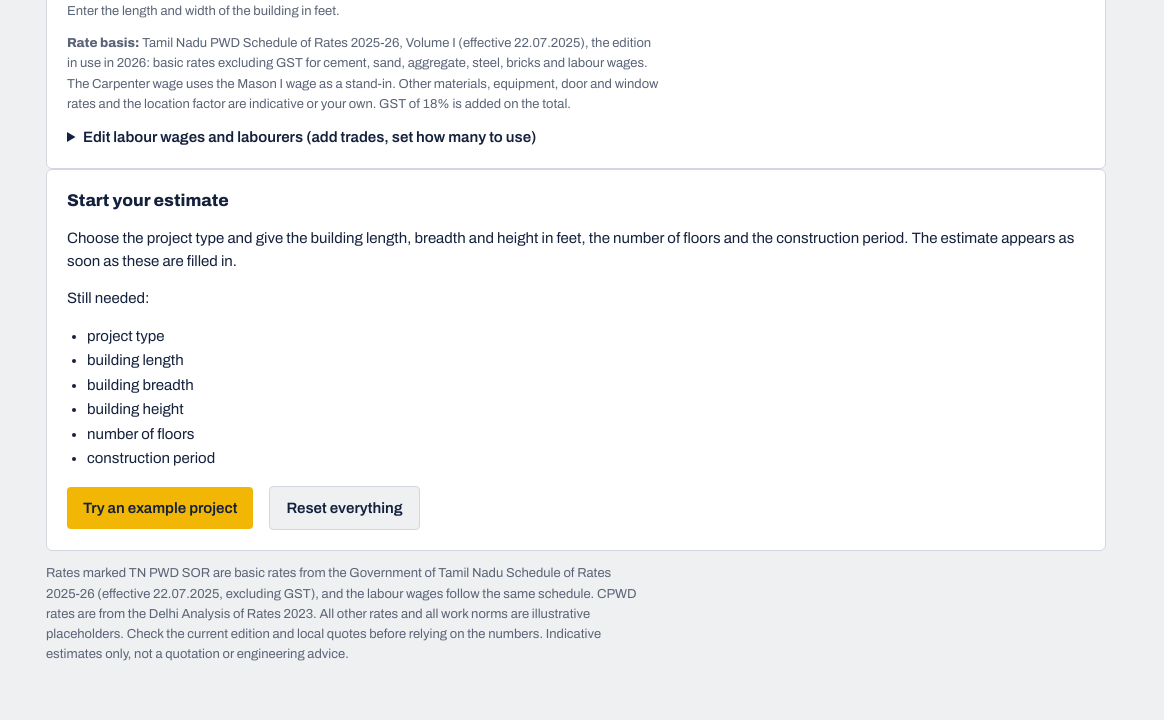
App › typing a length changes the estimate and the geometry line
(page scrolled)
Step 1. Click the button "Try an example project" → [160, 508], box x1=67 y1=487 x2=253 y2=529
(page scrolled)
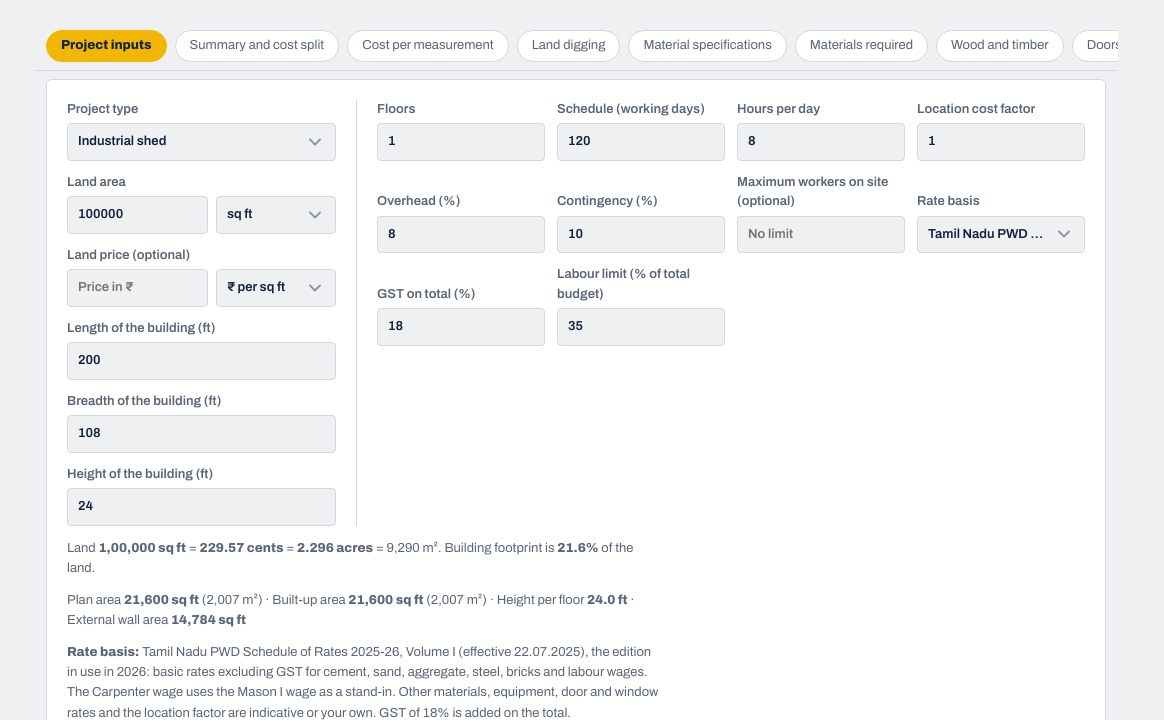
Step 2. Clear the number field labelled "Length of the building" → [202, 361], box x1=67 y1=342 x2=336 y2=380
(page scrolled)
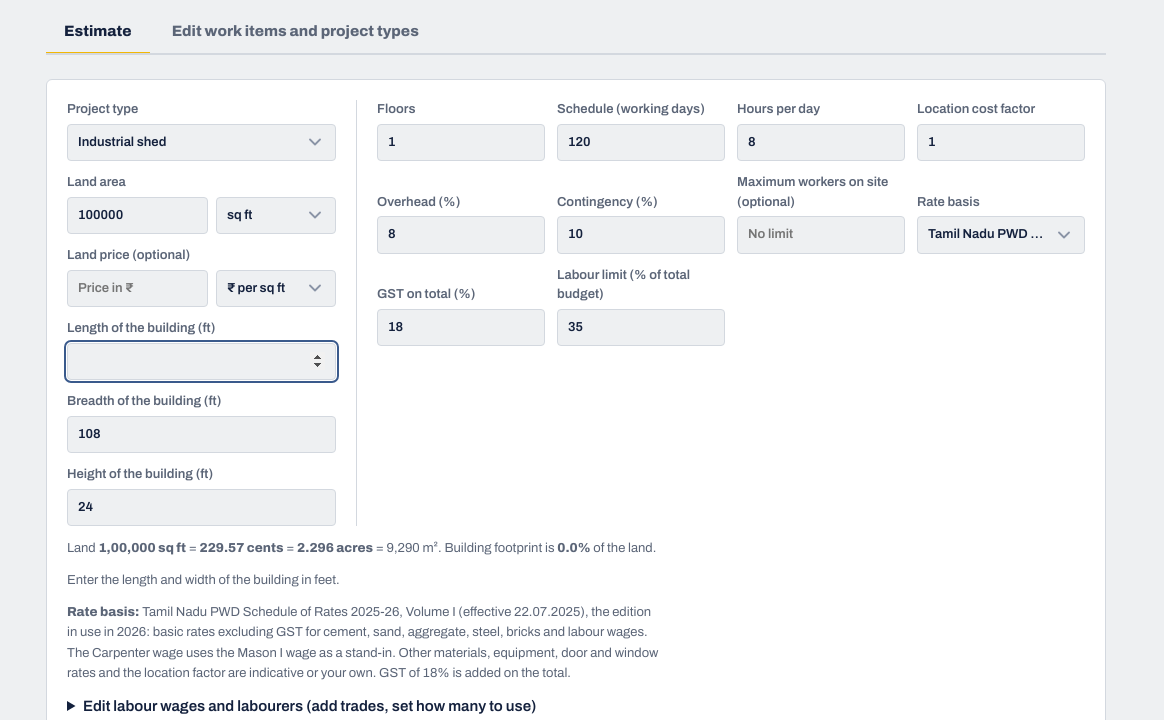
Step 3. Type "400" into the number field labelled "Length of the building" → [202, 361], box x1=67 y1=342 x2=336 y2=380
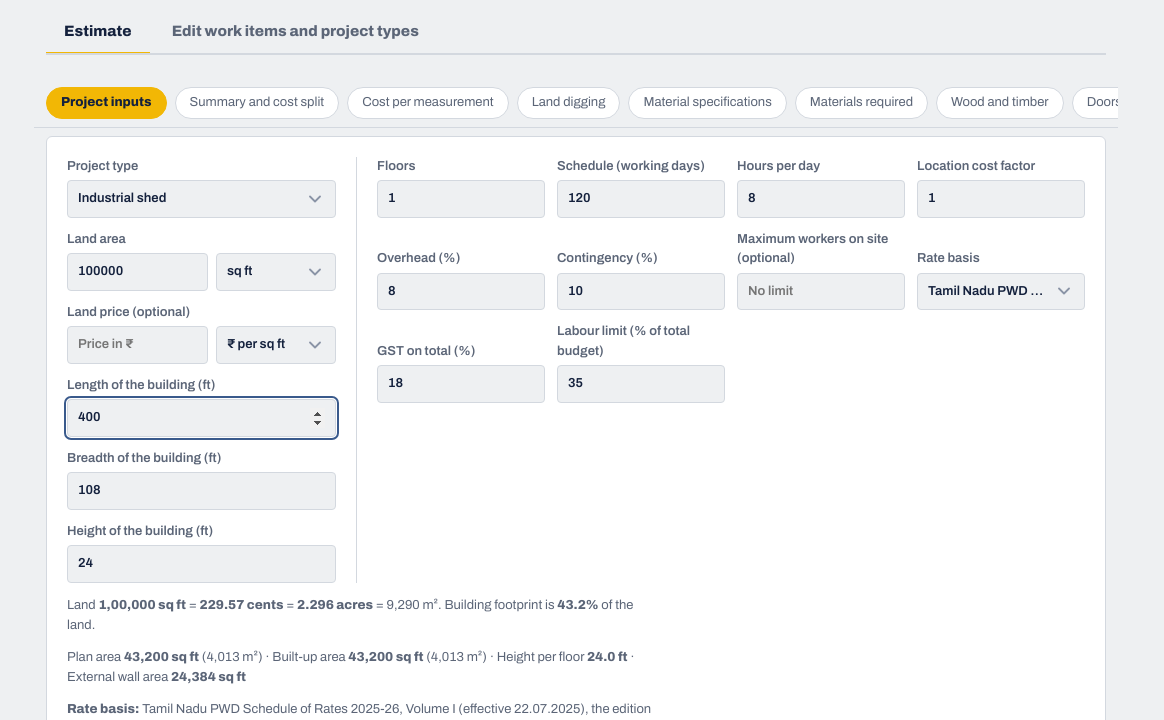
Result: the element with id "geo" shows "43,200 sq ft" at x1=67 y1=647 x2=663 y2=687
